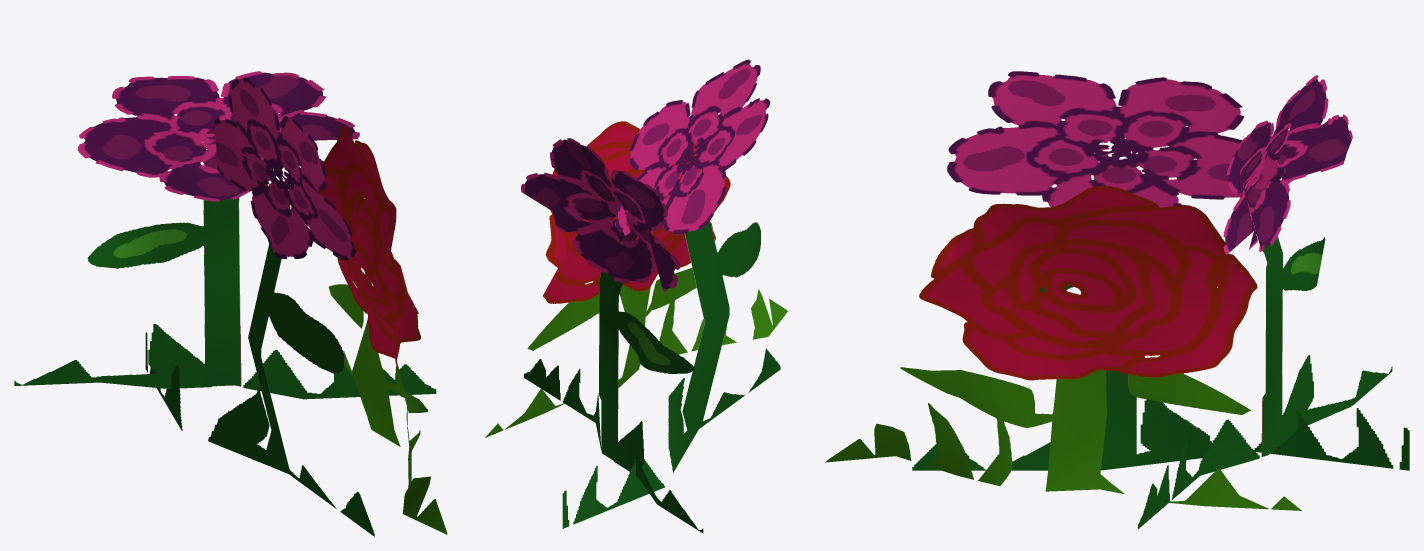
The model's file is Flower_Bed_1.fbx.
The picture shows the model from 3 angles, left to right: view 1: azimuth 30°, elevation 25°; view 2: azimuth 150°, elevation 25°; view 3: azimuth 270°, elevation 25°; orthographic projection. The views are drawn at different scales.
Parts seen in each view (by area): view 1: Flower2, Flower1, FlowerFour; view 2: Flower1, Flower2, FlowerFour; view 3: FlowerFour, Flower1, Flower2.
Part boxes in pixels (x1,y1,x2,y2): Flower2: (14,71,436,399); Flower1: (145,77,374,536); FlowerFour: (317,126,447,534); Flower1: (562,59,780,528); Flower2: (521,138,703,533); FlowerFour: (485,121,787,437); FlowerFour: (825,186,1301,510); Flower1: (912,71,1409,470); Flower2: (1138,75,1392,528).
Bounding box in the file's own units: 0.7592 × 0.9216 × 1.17.
Materials: 3 (3 with a texture image).
